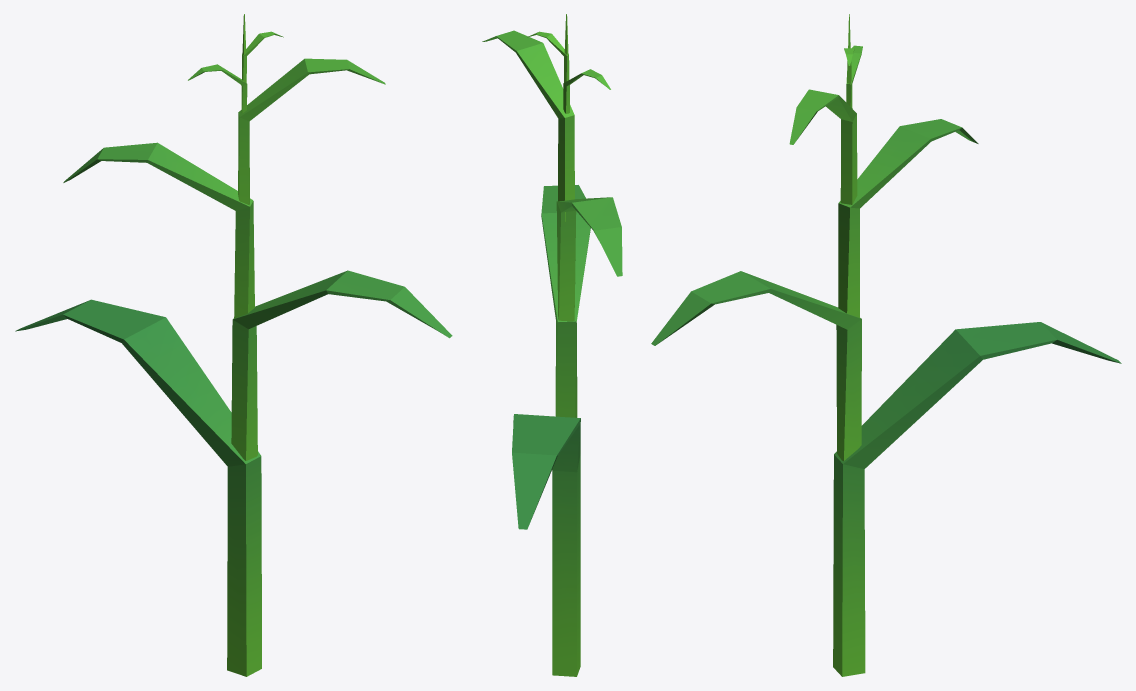
File: corn4.glb
The picture shows the model from 3 angles, left to right: view 1: azimuth 30°, elevation 25°; view 2: azimuth 150°, elevation 25°; view 3: azimuth 270°, elevation 25°; orthographic projection.
Visible parts, largest first — view 1: Corn4; view 2: Corn4; view 3: Corn4.
Part boxes in pixels (bbox=[...]): Corn4: bbox=[15, 14, 452, 676]; Corn4: bbox=[482, 14, 622, 676]; Corn4: bbox=[651, 14, 1121, 676].
Size of the model in its own units: 0.5454 by 1.48 by 0.96.
1 material, 1 textured.
